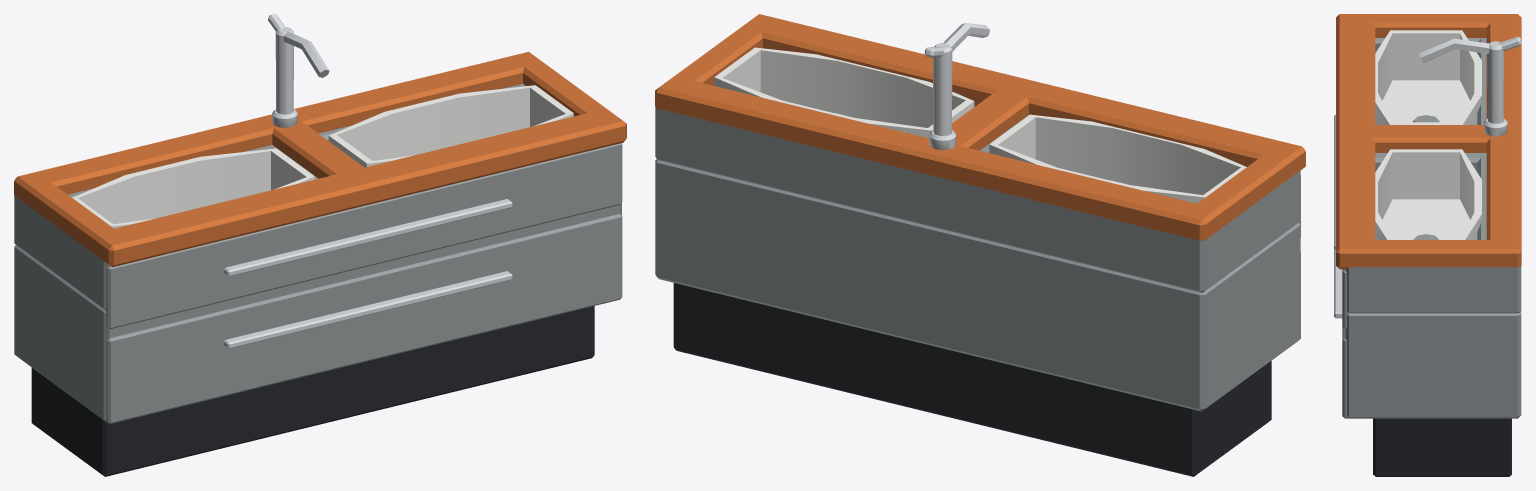
File: kids-basin-row.glb
3 renders of one model, left to right at view 1: azimuth 30°, elevation 25°; view 2: azimuth 150°, elevation 25°; view 3: azimuth 270°, elevation 25°, orthographic. The views are drawn at different scales.
Visible parts, largest first — view 1: kids-basin-row.metal, kids-basin-row.accent, kids-basin-row.graphite, kids-basin-row.ceramic, kids-basin-row.chrome; view 2: kids-basin-row.metal, kids-basin-row.accent, kids-basin-row.graphite, kids-basin-row.ceramic, kids-basin-row.chrome; view 3: kids-basin-row.metal, kids-basin-row.accent, kids-basin-row.ceramic, kids-basin-row.graphite, kids-basin-row.chrome.
Boxes of the visible parts, left/top/right/bottom form: kids-basin-row.metal: left=14, top=83, right=622, bottom=423; kids-basin-row.accent: left=14, top=51, right=626, bottom=267; kids-basin-row.graphite: left=31, top=306, right=594, bottom=476; kids-basin-row.ceramic: left=72, top=85, right=573, bottom=228; kids-basin-row.chrome: left=224, top=14, right=512, bottom=348; kids-basin-row.metal: left=655, top=105, right=1300, bottom=411; kids-basin-row.accent: left=655, top=14, right=1305, bottom=240; kids-basin-row.graphite: left=673, top=283, right=1271, bottom=476; kids-basin-row.ceramic: left=714, top=47, right=1246, bottom=203; kids-basin-row.chrome: left=924, top=23, right=989, bottom=150; kids-basin-row.metal: left=1342, top=38, right=1521, bottom=418; kids-basin-row.accent: left=1336, top=14, right=1521, bottom=269; kids-basin-row.ceramic: left=1375, top=30, right=1481, bottom=239; kids-basin-row.graphite: left=1373, top=418, right=1511, bottom=476; kids-basin-row.chrome: left=1334, top=36, right=1521, bottom=318.
Bounding box in the file's own units: 1.2 × 0.77 × 0.4.
